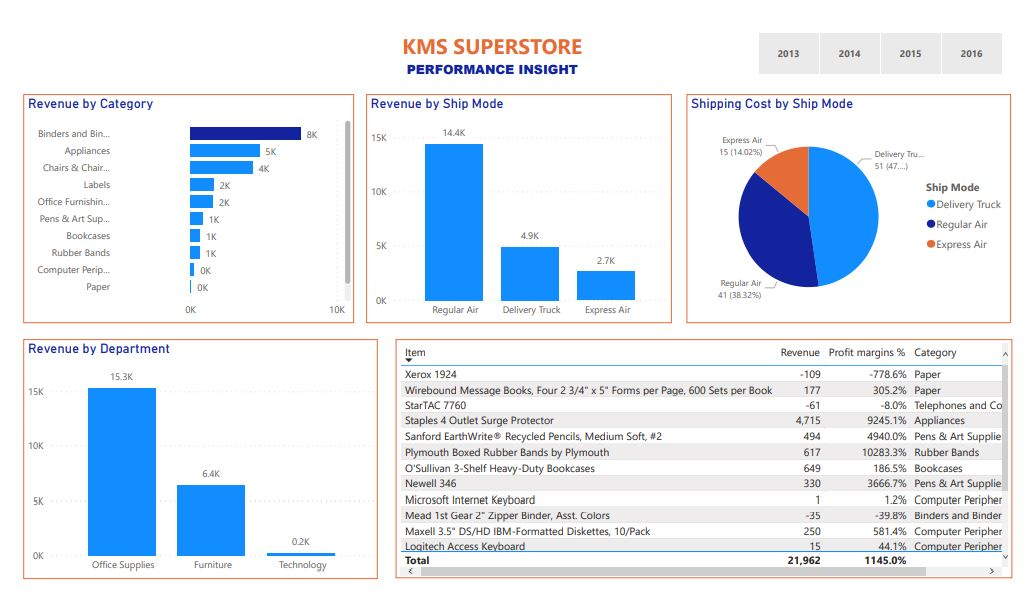

This screenshot's page, from the dashboard's own definition file:
{"tool":"powerbi","page":{"name":"mode insight","canvas":[1280,720],"ordinal":3},"visuals":[{"type":"barChart","fields":{"Category":["Store.Category","Store.Department"],"Y":["Store.Revenue"]},"box":[14.4,94.9,419.6,290.3],"z":0},{"type":"tableEx","title":"Top item by Revenue","fields":{"Values":["Store.Item","Store.Revenue","Store.Profit margins %","Store.Category"]},"box":[487.2,405.3,783.2,303.2],"z":1000},{"type":"lineClusteredColumnComboChart","fields":{"Category":["Store.Department"],"Y":["Store.Revenue"]},"box":[13.8,404.8,449.7,304.4],"z":2000},{"type":"textbox","box":[392.3,10.1,435.4,74.7],"z":3000},{"type":"lineClusteredColumnComboChart","fields":{"Category":["Store.Ship Mode"],"Y":["Store.Revenue"]},"box":[449.8,94.9,388,290.3],"z":4000},{"type":"pieChart","fields":{"Category":["Store.Ship Mode"],"Y":["Sum(Store.Shipping Cost)"]},"box":[856.5,94.9,412.5,290.3],"z":5000},{"type":"slicer","fields":{"Values":["Store.Order Date.Variation.Date Hierarchy.Year"]},"box":[922.6,10.1,357.8,64.7],"z":6000}]}

Visuals, with their boxes on the page's 1280x720 design canvas (x1, y1, x2, y2). These are canvas units, not pixel positions in the 1027x598 screenshot, which may show the page scaled, cropped or inside an application window:
barChart - Store.Category x Store.Department: 14/95/434/385
"Top item by Revenue" tableEx: 487/405/1270/708
lineClusteredColumnComboChart - Store.Department x Store.Revenue: 14/405/464/709
textbox: 392/10/828/85
lineClusteredColumnComboChart - Store.Ship Mode x Store.Revenue: 450/95/838/385
pieChart - Store.Ship Mode x Sum(Store.Shipping Cost): 856/95/1269/385
slicer - Store.Order Date.Variation.Date Hierarchy.Year: 923/10/1280/75
